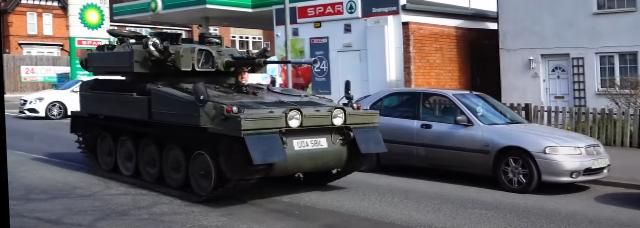tank: (76, 41, 370, 197)
